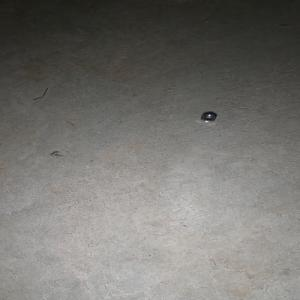Nut: (200, 112, 217, 122)
